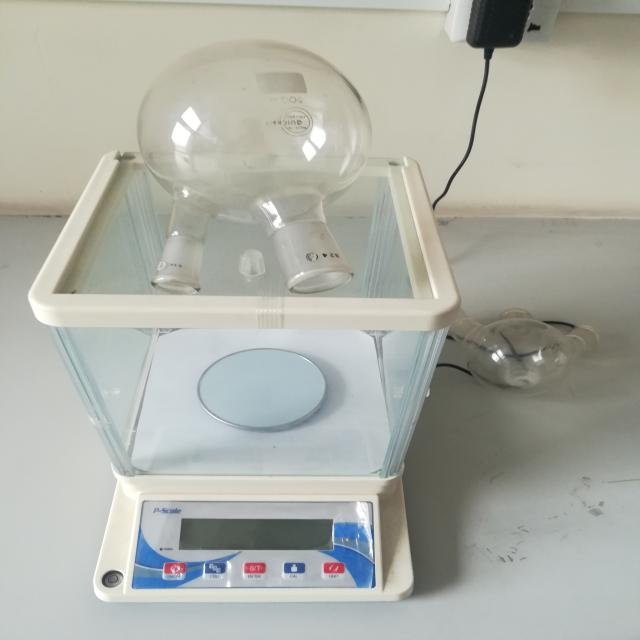Round_Bottom_Flask_Borosilicate_Glass_2_Neck: (89, 6, 399, 322)
